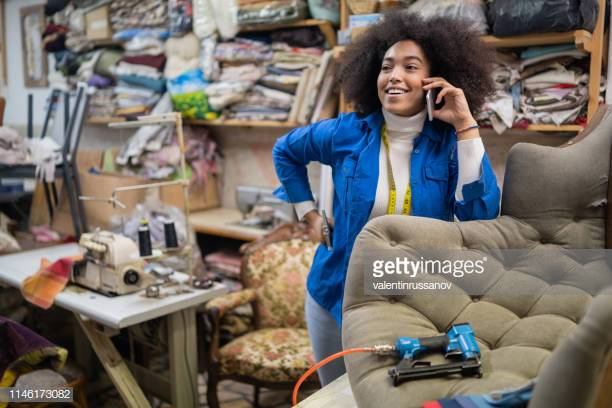phone: (421, 71, 467, 123)
talk: (377, 52, 475, 129)
